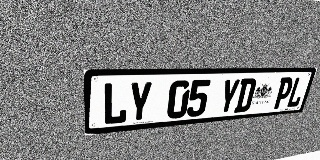0: (166, 80, 191, 119)
5: (186, 79, 211, 117)
D: (233, 78, 257, 113)
L: (103, 82, 128, 125), (285, 77, 308, 108)
P: (272, 77, 295, 109)
Y: (127, 81, 153, 123), (217, 79, 241, 114)
